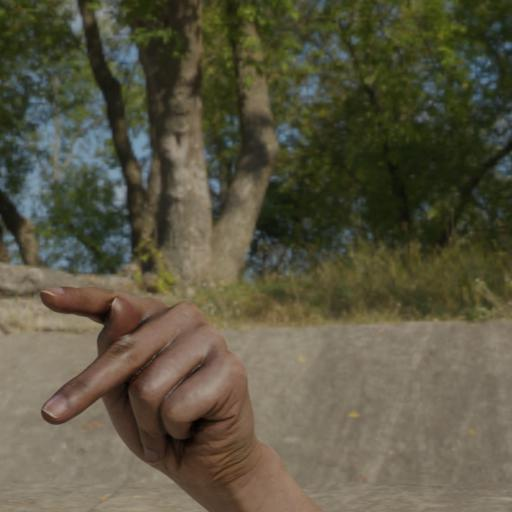P: (34, 262, 274, 494)
